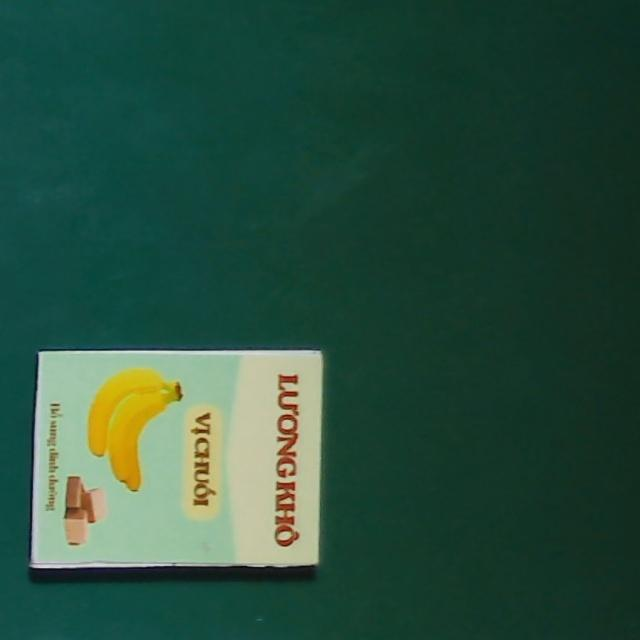chuoi: (30, 351, 324, 567)
